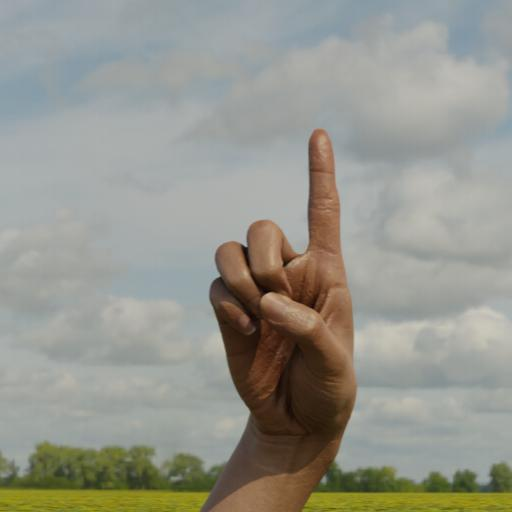D: (171, 116, 384, 451)
